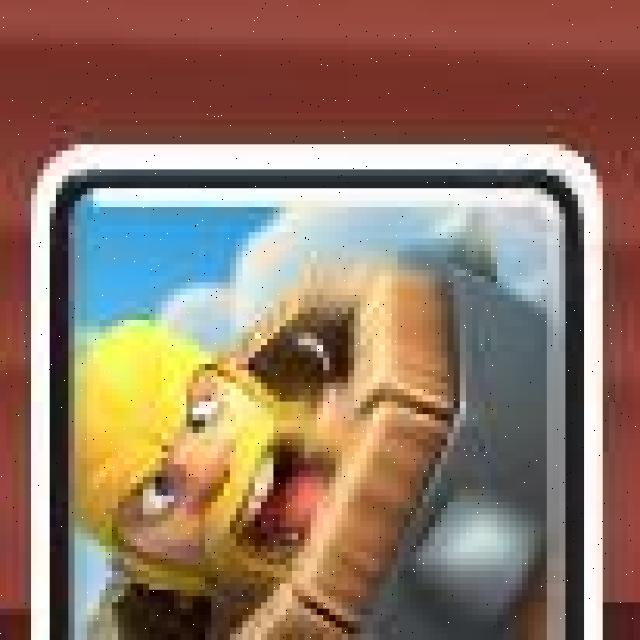Barbarian_Barrel: (23, 142, 608, 640)
